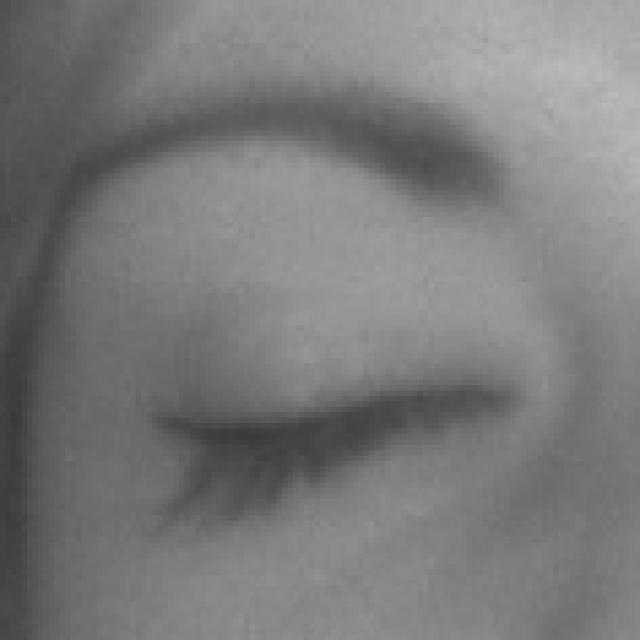Eyeclosed: (139, 259, 537, 611)
